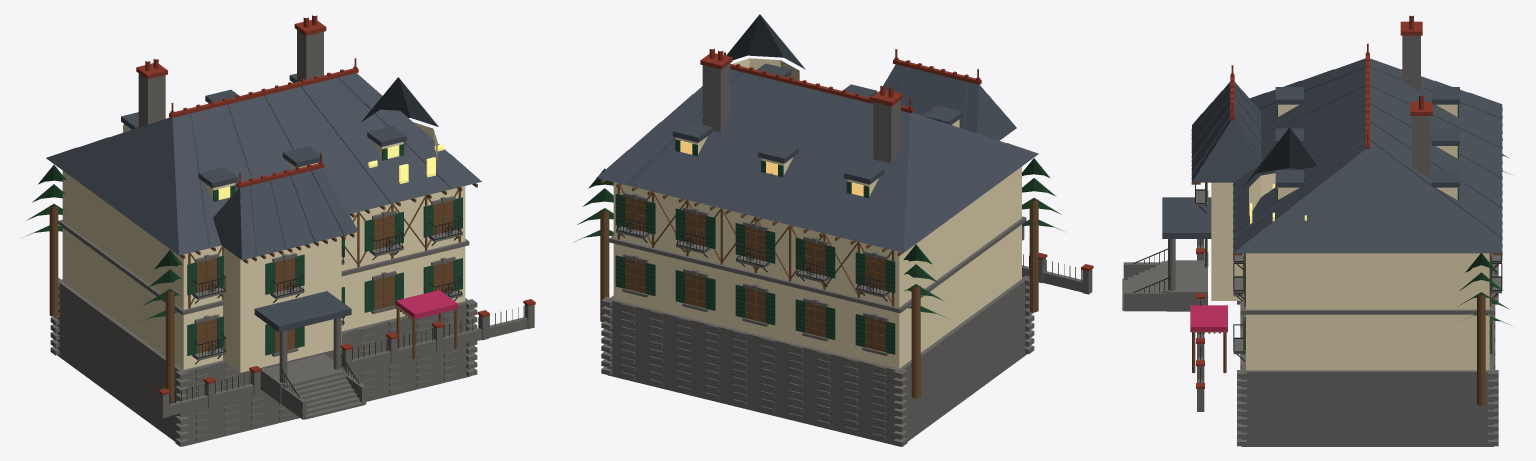
The model's file is fv_ch_03_crazy_house_spider_web_aquarium_pavilion.glb.
3 views of the same model, side by side, from view 1: azimuth 30°, elevation 25°; view 2: azimuth 150°, elevation 25°; view 3: azimuth 270°, elevation 25° (orthographic).
Parts seen in each view (by area): view 1: marseille_corrugated_roof_tiles, granite_foundation_and_stairs, stucco_facade_and_dormers, colombage_timber_and_eaves, pine_green_louvered_shutters, ridge_cresting_and_chimneys, wrought_iron_balconies_3d, pine_trees_and_garden_hedges, bougainvillea_pergola_clusters, warm_night_windows_ffb86c; view 2: marseille_corrugated_roof_tiles, granite_foundation_and_stairs, stucco_facade_and_dormers, colombage_timber_and_eaves, pine_green_louvered_shutters, ridge_cresting_and_chimneys, pine_trees_and_garden_hedges, wrought_iron_balconies_3d; view 3: marseille_corrugated_roof_tiles, stucco_facade_and_dormers, granite_foundation_and_stairs, colombage_timber_and_eaves, ridge_cresting_and_chimneys, bougainvillea_pergola_clusters, wrought_iron_balconies_3d, pine_trees_and_garden_hedges, pine_green_louvered_shutters.
Boxes of the visible parts, bbox=[...] form: marseille_corrugated_roof_tiles: bbox=[46, 73, 481, 332]; granite_foundation_and_stairs: bbox=[50, 30, 534, 446]; stucco_facade_and_dormers: bbox=[62, 103, 465, 372]; colombage_timber_and_eaves: bbox=[49, 183, 477, 401]; pine_green_louvered_shutters: bbox=[123, 124, 462, 355]; ridge_cresting_and_chimneys: bbox=[136, 15, 535, 395]; wrought_iron_balconies_3d: bbox=[169, 215, 524, 404]; pine_trees_and_garden_hedges: bbox=[23, 165, 182, 321]; bougainvillea_pergola_clusters: bbox=[396, 290, 457, 319]; warm_night_windows_ffb86c: bbox=[218, 144, 444, 199]; marseille_corrugated_roof_tiles: bbox=[596, 14, 1038, 252]; granite_foundation_and_stairs: bbox=[601, 63, 1092, 446]; stucco_facade_and_dormers: bbox=[613, 58, 1021, 368]; colombage_timber_and_eaves: bbox=[600, 179, 1038, 398]; pine_green_louvered_shutters: bbox=[615, 120, 960, 354]; ridge_cresting_and_chimneys: bbox=[700, 48, 1093, 271]; pine_trees_and_garden_hedges: bbox=[573, 158, 1062, 317]; wrought_iron_balconies_3d: bbox=[616, 212, 1081, 301]; marseille_corrugated_roof_tiles: bbox=[1162, 58, 1502, 253]; stucco_facade_and_dormers: bbox=[1211, 104, 1489, 370]; granite_foundation_and_stairs: bbox=[1122, 35, 1501, 446]; colombage_timber_and_eaves: bbox=[1191, 108, 1502, 405]; ridge_cresting_and_chimneys: bbox=[1196, 15, 1432, 388]; bougainvillea_pergola_clusters: bbox=[1190, 305, 1227, 332]; wrought_iron_balconies_3d: bbox=[1132, 184, 1502, 382]; pine_trees_and_garden_hedges: bbox=[1457, 139, 1511, 325]; pine_green_louvered_shutters: bbox=[1205, 104, 1492, 354].
Bounding box in the file's own units: 25.1 × 19.93 × 22.91.
